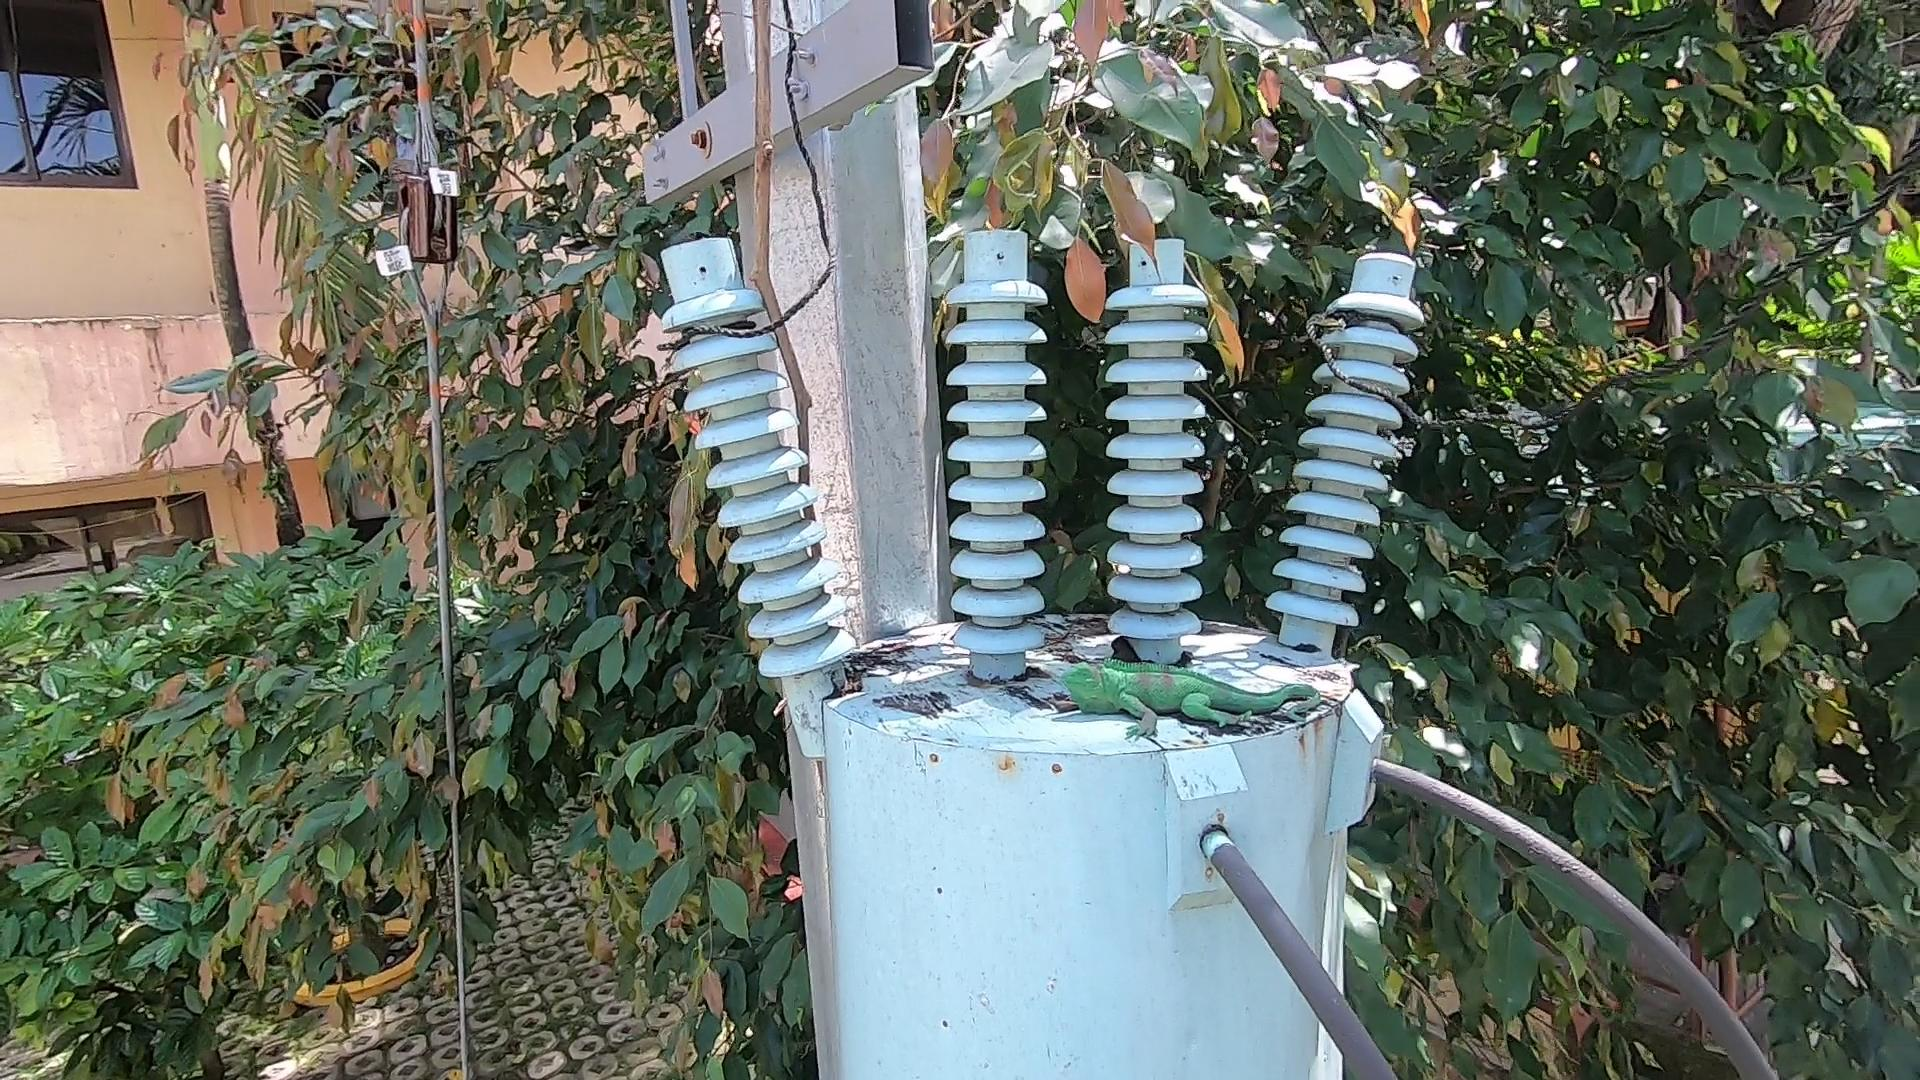branch with leaves: (1067, 169, 1269, 392)
leaf: (1106, 630, 1163, 671), (829, 662, 880, 705)
tree branch: (679, 1, 847, 798)
